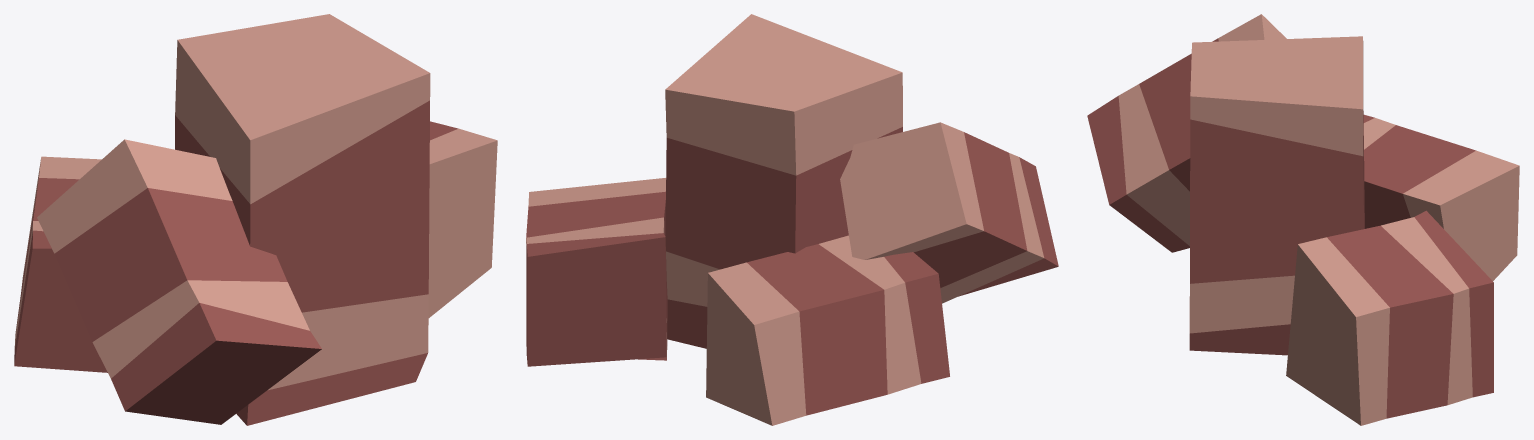
File: porkBellyBitsGroup.fbx
3 views of the same model, side by side, from view 1: azimuth 30°, elevation 25°; view 2: azimuth 150°, elevation 25°; view 3: azimuth 270°, elevation 25° (orthographic). The views are drawn at different scales.
Parts seen in each view (by area): view 1: porkBellyBitsGroup; view 2: porkBellyBitsGroup; view 3: porkBellyBitsGroup.
Boxes of the visible parts, x1,y1,x2,y2 form: porkBellyBitsGroup: [14, 14, 497, 425]; porkBellyBitsGroup: [526, 14, 1058, 425]; porkBellyBitsGroup: [1087, 14, 1519, 425].
Size of the model in its own units: 16.22 by 9.68 by 14.3.
1 material, 1 textured.
